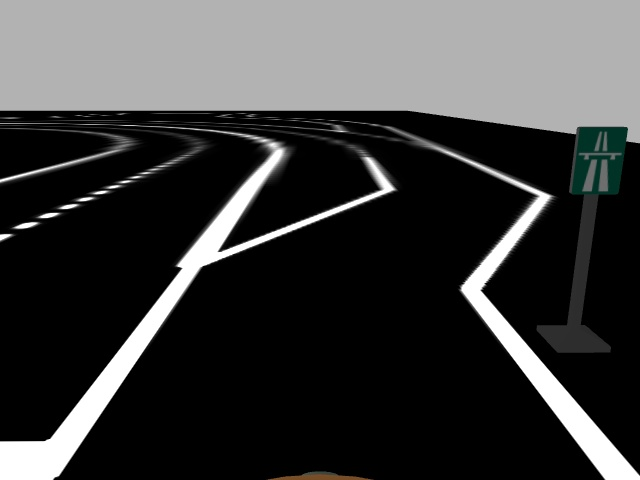enter_highway: (567, 126, 629, 195)
